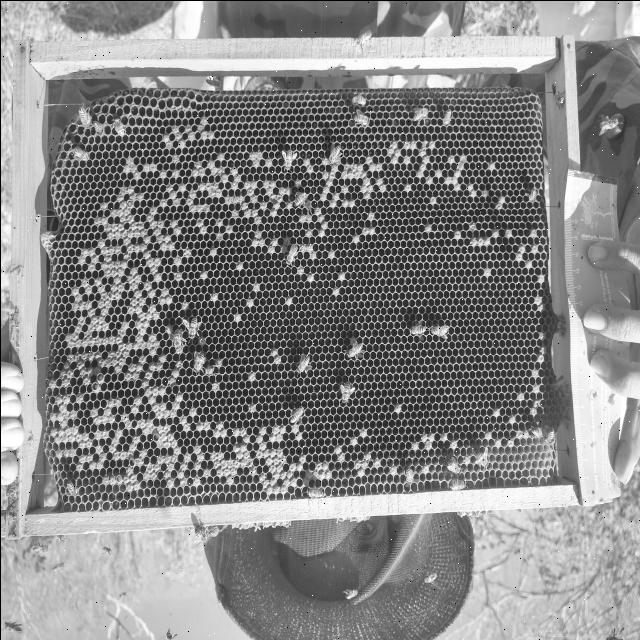cria: (45, 113, 331, 496), (276, 131, 545, 480)
marco: (12, 32, 585, 496)
